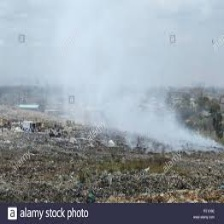smoke: (52, 31, 189, 138)
